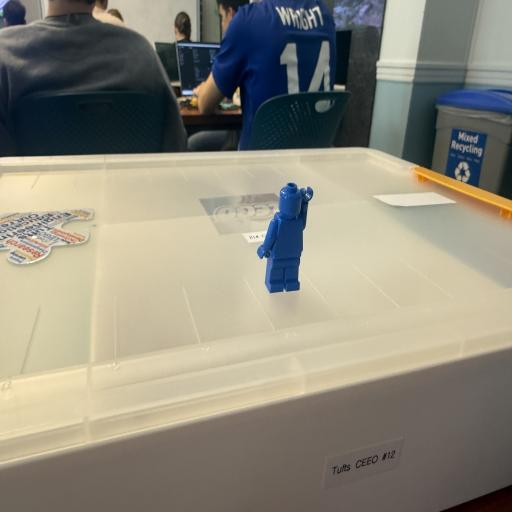Minifig: (257, 183, 312, 293)
